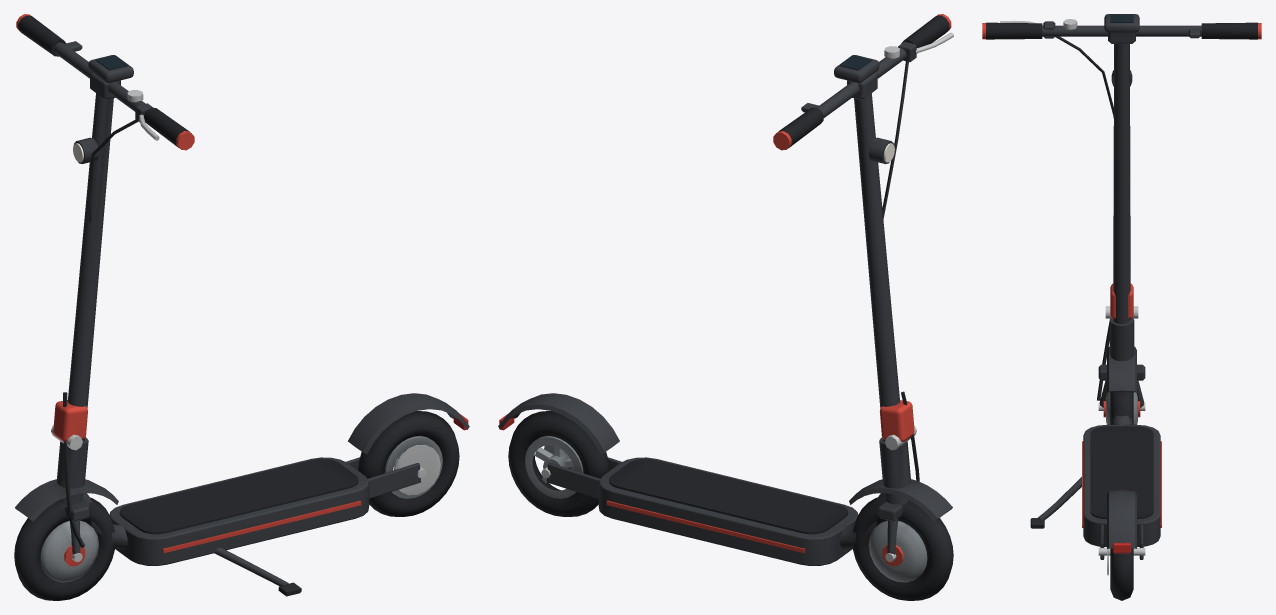
File: eScooter.glb
3 renders of one model, left to right at view 1: azimuth 30°, elevation 25°; view 2: azimuth 150°, elevation 25°; view 3: azimuth 270°, elevation 25°, orthographic. The views are drawn at different scales.
Parts seen in each view (by area): view 1: frame, wheel_front, wheel_rear, stand; view 2: frame, wheel_front, wheel_rear; view 3: frame, wheel_rear, wheel_front, stand.
Part boxes in pixels (x1,y1,x2,y2): frame: (15, 14, 469, 565); wheel_front: (14, 497, 115, 600); wheel_rear: (358, 411, 459, 516); stand: (214, 547, 301, 596); frame: (498, 14, 953, 565); wheel_front: (852, 497, 953, 600); wheel_rear: (508, 411, 609, 516); frame: (982, 14, 1261, 559); wheel_rear: (1098, 548, 1145, 600); wheel_front: (1098, 392, 1145, 424); stand: (1030, 477, 1081, 528).
Size of the model in its own units: 0.9518 by 1.07 by 0.596.
